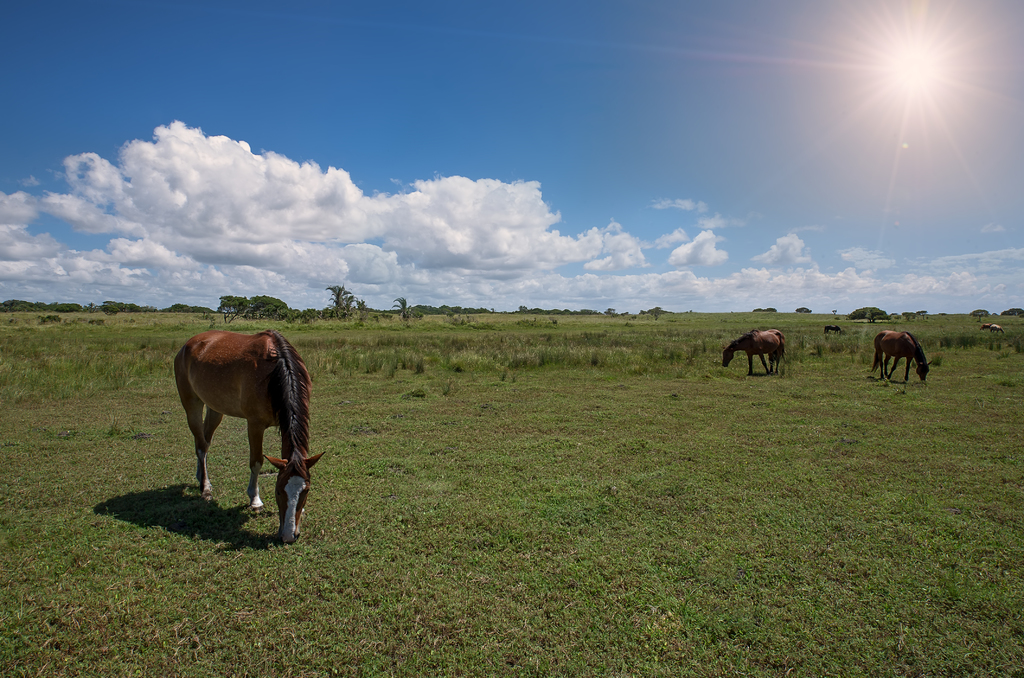horse: (171, 329, 327, 546), (867, 330, 931, 382), (723, 329, 786, 374)
